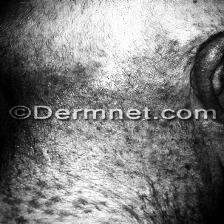Benign Marking or Mole: (0, 126, 191, 224)
